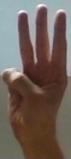W: (0, 0, 70, 138)
